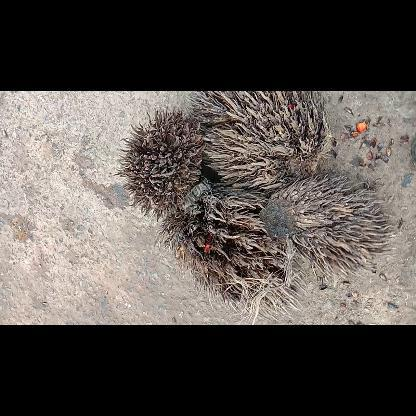Janjang kosong: (158, 180, 306, 324), (186, 90, 330, 192), (259, 175, 393, 279), (116, 107, 204, 219)
